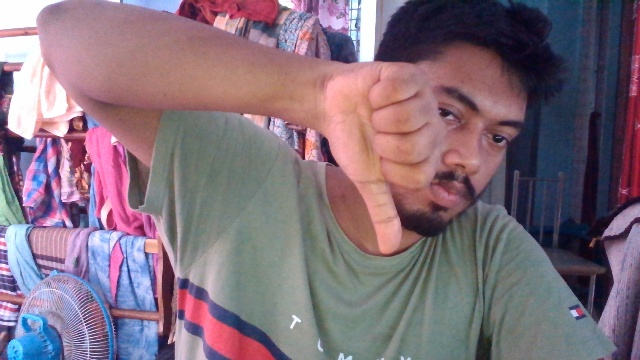no: (308, 51, 444, 267)
